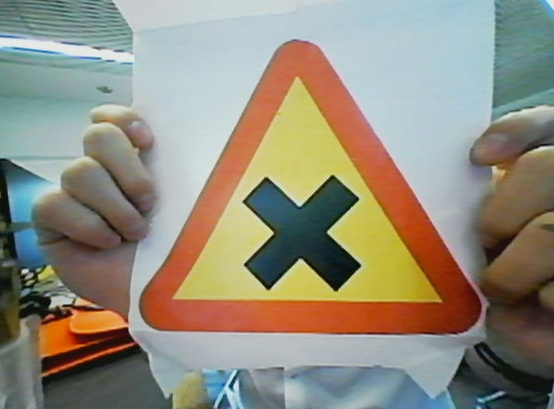junction: (142, 39, 472, 344)
